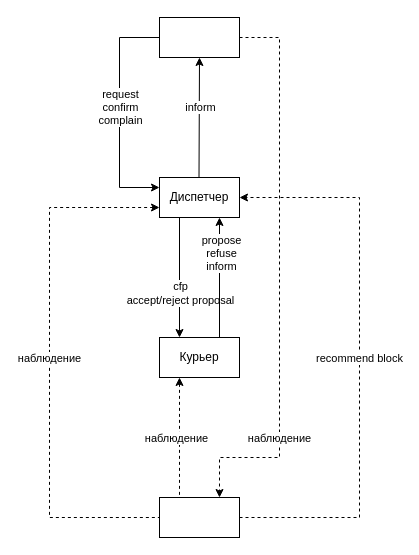
Some shapes in this 419 by 555 pixel diagram are drawn without their labels. Here are the shapes that lost their labels. From the top down, the centre of each, then its label:
At pixel 199 37: "Клиент".
At pixel 199 517: "Аудитор".
